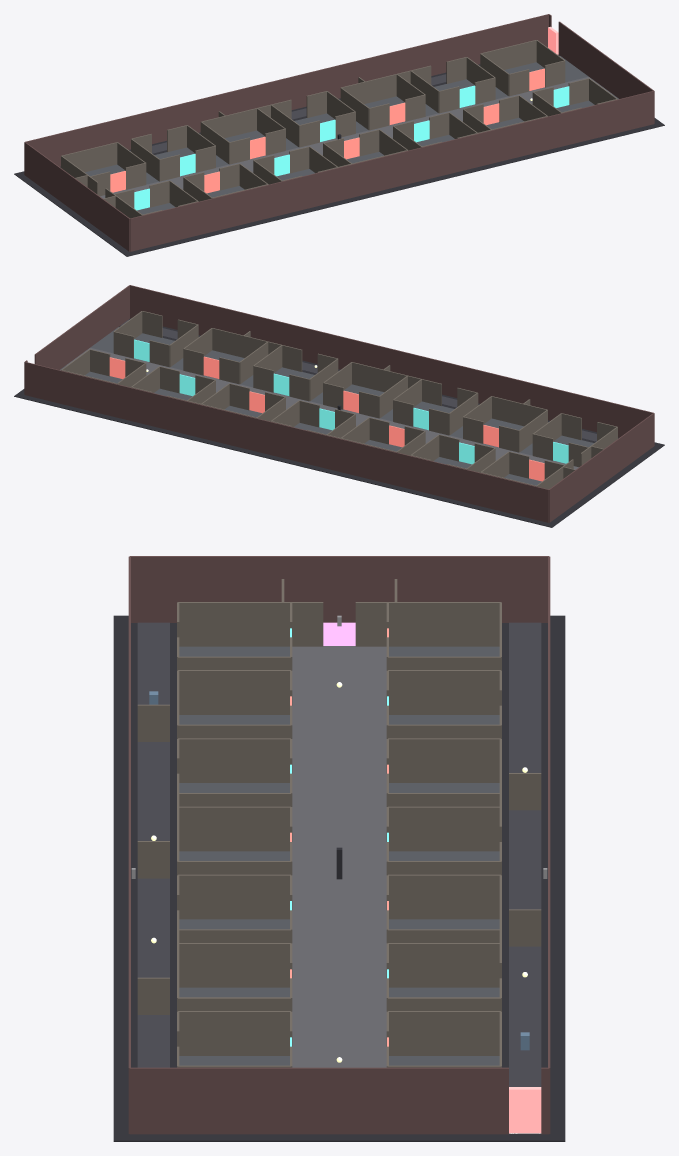
Rendered from prop_level_yata.glb.
3 views of the same model, one above another, from view 1: azimuth 30°, elevation 25°; view 2: azimuth 150°, elevation 25°; view 3: azimuth 270°, elevation 25° (orthographic). The views are drawn at different scales.
Visible parts, largest first — view 1: level_yata; view 2: level_yata; view 3: level_yata.
Boxes of the visible parts, left/top/right/bottom form: level_yata: left=14, top=14, right=664, bottom=256; level_yata: left=14, top=285, right=664, bottom=527; level_yata: left=113, top=556, right=565, bottom=1141.
Size of the model in its own units: 308 by 18.3 by 112.
